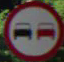No overtake: (3, 2, 60, 58)
